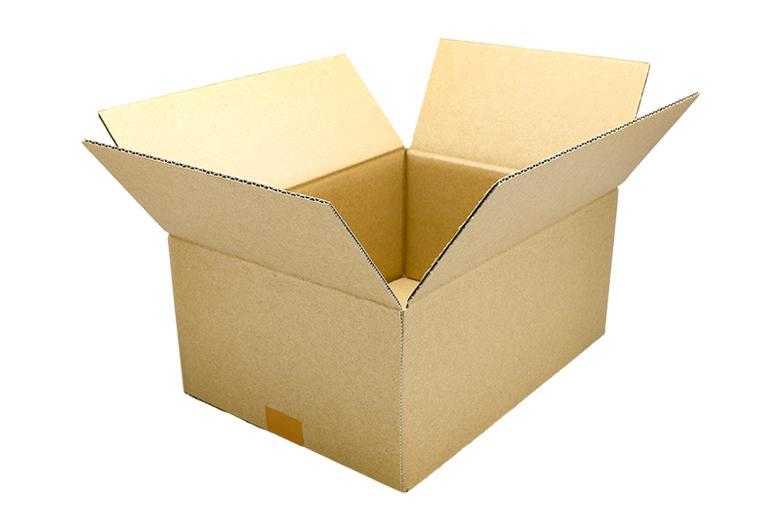box: (104, 32, 693, 495)
